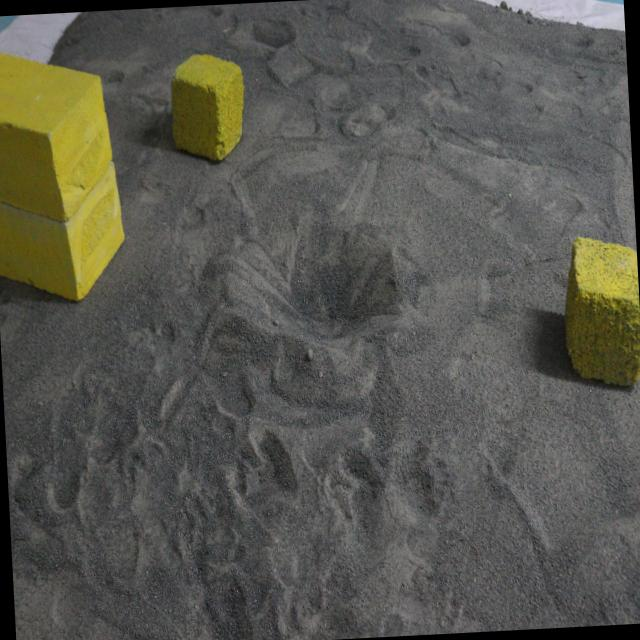box: (0, 45, 132, 305), (559, 232, 640, 398), (164, 52, 253, 164)
crater: (218, 211, 418, 386)
